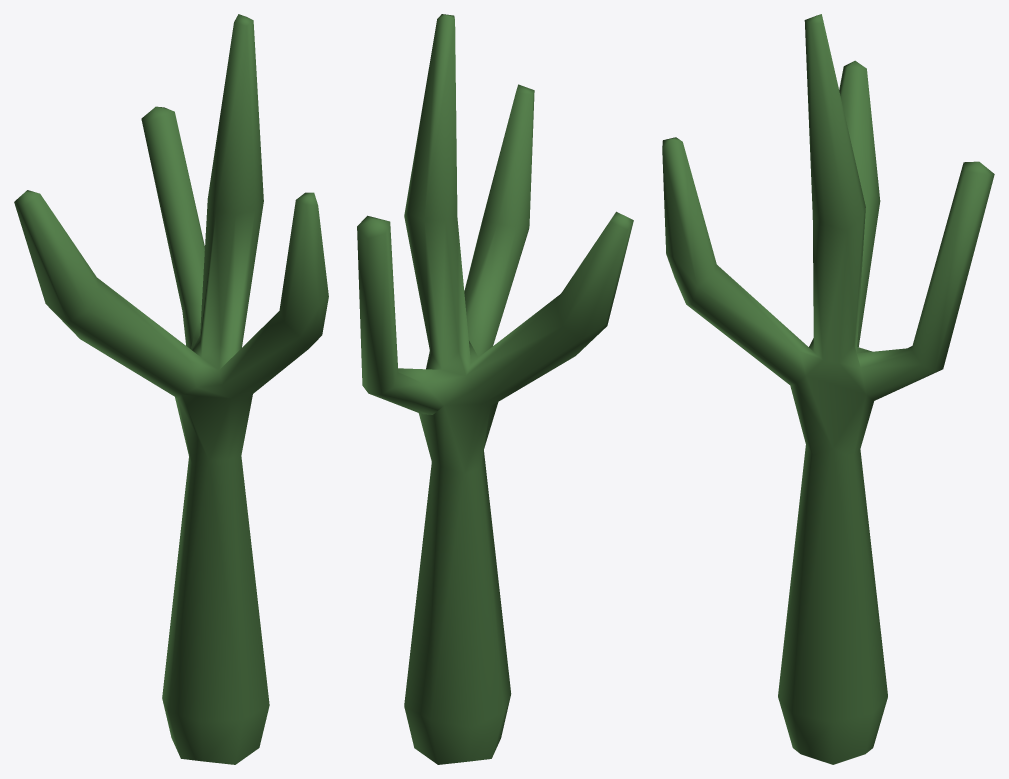
File: Cacto2.fbx
The picture shows the model from 3 angles, left to right: view 1: azimuth 30°, elevation 25°; view 2: azimuth 150°, elevation 25°; view 3: azimuth 270°, elevation 25°; orthographic projection. The views are drawn at different scales.
Parts seen in each view (by area): view 1: Cacto2; view 2: Cacto2; view 3: Cacto2.
Boxes of the visible parts, bbox=[...] form: Cacto2: bbox=[14, 14, 328, 764]; Cacto2: bbox=[357, 14, 633, 764]; Cacto2: bbox=[662, 14, 994, 764].
Size of the model in its own units: 120 by 362 by 147.
